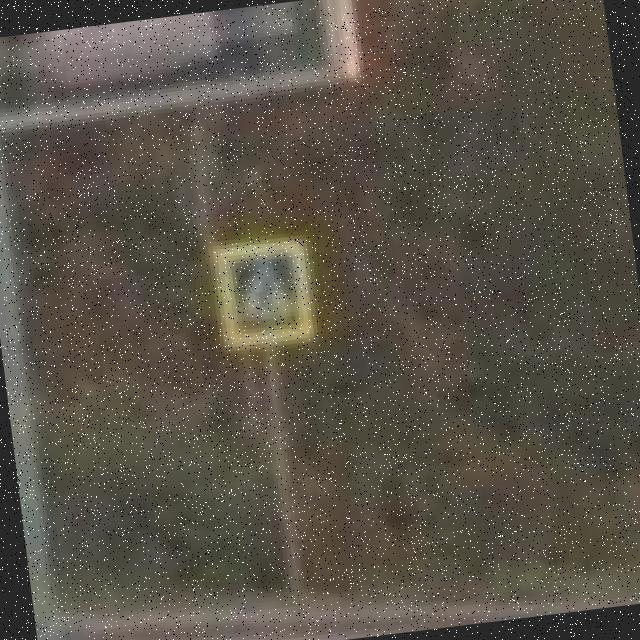Przejscie dla pieszych: (202, 226, 328, 364)
